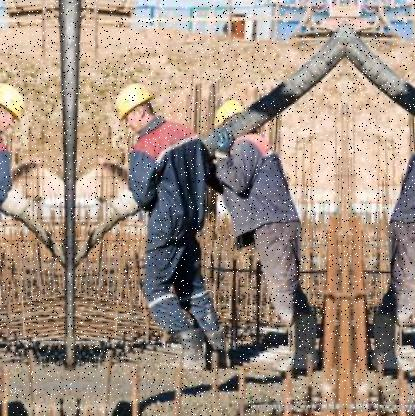helmet: (113, 77, 164, 140), (2, 76, 28, 140), (216, 98, 250, 135)
